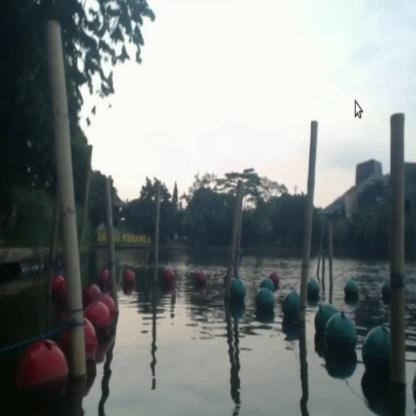green_buoy: (325, 319, 355, 369), (364, 326, 390, 383), (282, 293, 298, 326), (256, 287, 274, 316), (314, 304, 329, 338), (228, 279, 244, 306), (338, 280, 352, 304), (306, 276, 319, 298), (381, 279, 390, 303), (260, 278, 270, 288)
red_buoy: (18, 342, 66, 404), (120, 266, 138, 293), (86, 316, 96, 364), (96, 312, 110, 342), (104, 301, 117, 327), (53, 274, 67, 294), (162, 266, 174, 289), (194, 268, 206, 286), (84, 286, 96, 302), (100, 267, 108, 288), (269, 268, 278, 286)
